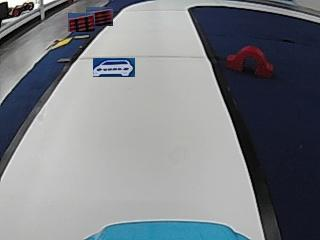bridge: (225, 46, 270, 77)
